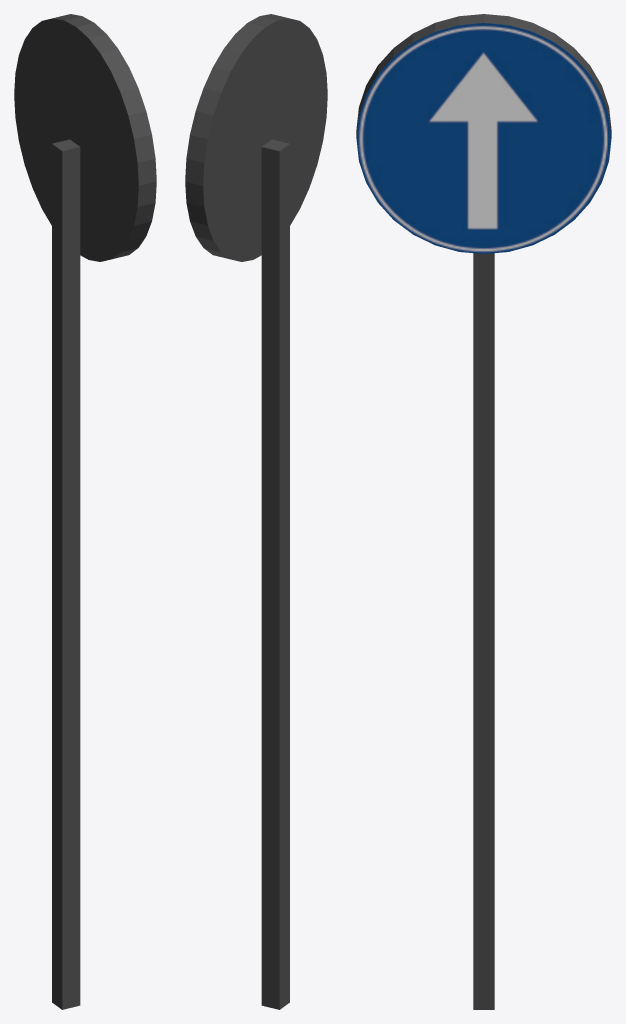
The model's file is ileri_mecburi_levha.dae.
3 views of the same model, side by side, from view 1: azimuth 30°, elevation 25°; view 2: azimuth 150°, elevation 25°; view 3: azimuth 270°, elevation 25° (orthographic). The views are drawn at different scales.
Parts seen in each view (by area): view 1: Cube.004, Cube.001; view 2: Cube.004, Cube.001; view 3: Cube.001, Cube.004.
Part boxes in pixels (x1,y1,x2,y2): Cube.004: (52, 139, 80, 1009); Cube.001: (14, 14, 156, 261); Cube.004: (261, 139, 289, 1009); Cube.001: (185, 14, 327, 261); Cube.001: (356, 14, 611, 253); Cube.004: (473, 253, 494, 1009).
Bounding box in the file's own units: 0.1039 × 0.6 × 2.59.
2 materials, 1 textured.
